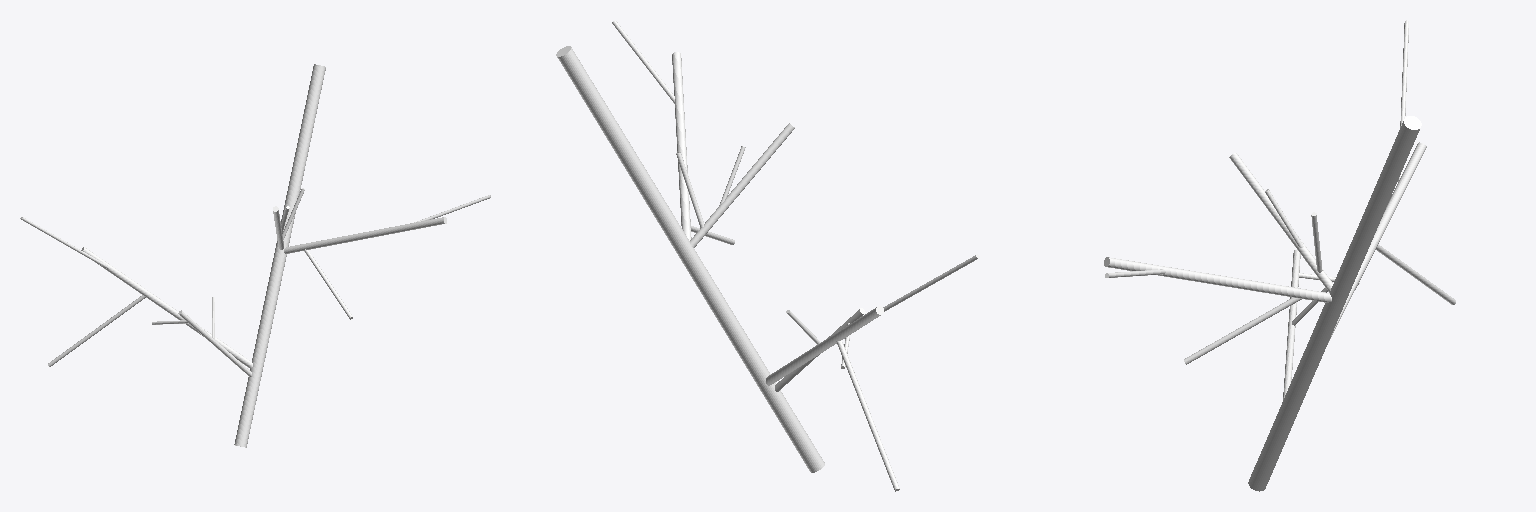
robot.urdf — tree_79.urdf:
<?xml version='1.0' encoding='UTF-8'?>
<robot name="tree_79.urdf">
  <link name="branch_0">
    <inertial>
      <origin xyz="0.0 0.0 0.0" rpy="0.0 -0.0 0.0"/>
      <mass value="1.0"/>
      <inertia ixx="1.0" ixy="0.0" ixz="0.0" iyy="1.0" iyz="0.0" izz="1.0"/>
    </inertial>
    <visual name="branch_0_visual">
      <geometry>
        <cylinder radius="0.15428073349545535" length="9.529718981716883"/>
      </geometry>
      <material name="branch_material"/>
      <origin xyz="1.8713882000473983 1.2914040198077825 4.1873700373828235" rpy="-1.3706536996187292e-16 0.4974496341435632 0.6040358883168764"/>
    </visual>
    <collision name="branch_0_collision">
      <geometry>
        <cylinder radius="0.15428073349545535" length="9.529718981716883"/>
      </geometry>
      <origin xyz="1.8713882000473983 1.2914040198077825 4.1873700373828235" rpy="-1.3706536996187292e-16 0.4974496341435632 0.6040358883168764"/>
    </collision>
  </link>
  <link name="branch_1">
    <inertial>
      <origin xyz="0.0 0.0 0.0" rpy="0.0 -0.0 0.0"/>
      <mass value="1.0"/>
      <inertia ixx="1.0" ixy="0.0" ixz="0.0" iyy="1.0" iyz="0.0" izz="1.0"/>
    </inertial>
    <visual name="branch_1_visual">
      <geometry>
        <cylinder radius="0.0722822862945025" length="2.9482041365778917"/>
      </geometry>
      <material name="branch_material"/>
      <origin xyz="0.0 0.0 0.0" rpy="0.0 -0.0 0.0"/>
    </visual>
    <collision name="branch_1_collision">
      <geometry>
        <cylinder radius="0.0722822862945025" length="2.9482041365778917"/>
      </geometry>
      <origin xyz="0.0 0.0 0.0" rpy="0.0 -0.0 0.0"/>
    </collision>
  </link>
  <link name="branch_2">
    <inertial>
      <origin xyz="0.0 0.0 0.0" rpy="0.0 -0.0 0.0"/>
      <mass value="1.0"/>
      <inertia ixx="1.0" ixy="0.0" ixz="0.0" iyy="1.0" iyz="0.0" izz="1.0"/>
    </inertial>
    <visual name="branch_2_visual">
      <geometry>
        <cylinder radius="0.045364912271308705" length="1.474331720846163"/>
      </geometry>
      <material name="branch_material"/>
      <origin xyz="0.0 0.0 0.0" rpy="0.0 -0.0 0.0"/>
    </visual>
    <collision name="branch_2_collision">
      <geometry>
        <cylinder radius="0.045364912271308705" length="1.474331720846163"/>
      </geometry>
      <origin xyz="0.0 0.0 0.0" rpy="0.0 -0.0 0.0"/>
    </collision>
  </link>
  <link name="branch_3">
    <inertial>
      <origin xyz="0.0 0.0 0.0" rpy="0.0 -0.0 0.0"/>
      <mass value="1.0"/>
      <inertia ixx="1.0" ixy="0.0" ixz="0.0" iyy="1.0" iyz="0.0" izz="1.0"/>
    </inertial>
    <visual name="branch_3_visual">
      <geometry>
        <cylinder radius="0.04" length="1.2584969913887478"/>
      </geometry>
      <material name="branch_material"/>
      <origin xyz="0.0 0.0 0.0" rpy="0.0 -0.0 0.0"/>
    </visual>
    <collision name="branch_3_collision">
      <geometry>
        <cylinder radius="0.04" length="1.2584969913887478"/>
      </geometry>
      <origin xyz="0.0 0.0 0.0" rpy="0.0 -0.0 0.0"/>
    </collision>
  </link>
  <link name="branch_4">
    <inertial>
      <origin xyz="0.0 0.0 0.0" rpy="0.0 -0.0 0.0"/>
      <mass value="1.0"/>
      <inertia ixx="1.0" ixy="0.0" ixz="0.0" iyy="1.0" iyz="0.0" izz="1.0"/>
    </inertial>
    <visual name="branch_4_visual">
      <geometry>
        <cylinder radius="0.06171909879394525" length="2.9400993097604933"/>
      </geometry>
      <material name="branch_material"/>
      <origin xyz="0.0 0.0 0.0" rpy="0.0 -0.0 0.0"/>
    </visual>
    <collision name="branch_4_collision">
      <geometry>
        <cylinder radius="0.06171909879394525" length="2.9400993097604933"/>
      </geometry>
      <origin xyz="0.0 0.0 0.0" rpy="0.0 -0.0 0.0"/>
    </collision>
  </link>
  <link name="branch_5">
    <inertial>
      <origin xyz="0.0 0.0 0.0" rpy="0.0 -0.0 0.0"/>
      <mass value="1.0"/>
      <inertia ixx="1.0" ixy="0.0" ixz="0.0" iyy="1.0" iyz="0.0" izz="1.0"/>
    </inertial>
    <visual name="branch_5_visual">
      <geometry>
        <cylinder radius="0.04" length="1.2029728240466377"/>
      </geometry>
      <material name="branch_material"/>
      <origin xyz="0.0 0.0 0.0" rpy="0.0 -0.0 0.0"/>
    </visual>
    <collision name="branch_5_collision">
      <geometry>
        <cylinder radius="0.04" length="1.2029728240466377"/>
      </geometry>
      <origin xyz="0.0 0.0 0.0" rpy="0.0 -0.0 0.0"/>
    </collision>
  </link>
  <link name="branch_6">
    <inertial>
      <origin xyz="0.0 0.0 0.0" rpy="0.0 -0.0 0.0"/>
      <mass value="1.0"/>
      <inertia ixx="1.0" ixy="0.0" ixz="0.0" iyy="1.0" iyz="0.0" izz="1.0"/>
    </inertial>
    <visual name="branch_6_visual">
      <geometry>
        <cylinder radius="0.04" length="1.117384253336302"/>
      </geometry>
      <material name="branch_material"/>
      <origin xyz="0.0 0.0 0.0" rpy="0.0 -0.0 0.0"/>
    </visual>
    <collision name="branch_6_collision">
      <geometry>
        <cylinder radius="0.04" length="1.117384253336302"/>
      </geometry>
      <origin xyz="0.0 0.0 0.0" rpy="0.0 -0.0 0.0"/>
    </collision>
  </link>
  <link name="branch_7">
    <inertial>
      <origin xyz="0.0 0.0 0.0" rpy="0.0 -0.0 0.0"/>
      <mass value="1.0"/>
      <inertia ixx="1.0" ixy="0.0" ixz="0.0" iyy="1.0" iyz="0.0" izz="1.0"/>
    </inertial>
    <visual name="branch_7_visual">
      <geometry>
        <cylinder radius="0.08418187635460321" length="4.884376594154465"/>
      </geometry>
      <material name="branch_material"/>
      <origin xyz="0.0 0.0 0.0" rpy="0.0 -0.0 0.0"/>
    </visual>
    <collision name="branch_7_collision">
      <geometry>
        <cylinder radius="0.08418187635460321" length="4.884376594154465"/>
      </geometry>
      <origin xyz="0.0 0.0 0.0" rpy="0.0 -0.0 0.0"/>
    </collision>
  </link>
  <link name="branch_8">
    <inertial>
      <origin xyz="0.0 0.0 0.0" rpy="0.0 -0.0 0.0"/>
      <mass value="1.0"/>
      <inertia ixx="1.0" ixy="0.0" ixz="0.0" iyy="1.0" iyz="0.0" izz="1.0"/>
    </inertial>
    <visual name="branch_8_visual">
      <geometry>
        <cylinder radius="0.04326247679108168" length="2.2954943857323054"/>
      </geometry>
      <material name="branch_material"/>
      <origin xyz="0.0 0.0 0.0" rpy="0.0 -0.0 0.0"/>
    </visual>
    <collision name="branch_8_collision">
      <geometry>
        <cylinder radius="0.04326247679108168" length="2.2954943857323054"/>
      </geometry>
      <origin xyz="0.0 0.0 0.0" rpy="0.0 -0.0 0.0"/>
    </collision>
  </link>
  <link name="branch_9">
    <inertial>
      <origin xyz="0.0 0.0 0.0" rpy="0.0 -0.0 0.0"/>
      <mass value="1.0"/>
      <inertia ixx="1.0" ixy="0.0" ixz="0.0" iyy="1.0" iyz="0.0" izz="1.0"/>
    </inertial>
    <visual name="branch_9_visual">
      <geometry>
        <cylinder radius="0.05091796355346586" length="2.30927143332439"/>
      </geometry>
      <material name="branch_material"/>
      <origin xyz="0.0 0.0 0.0" rpy="0.0 -0.0 0.0"/>
    </visual>
    <collision name="branch_9_collision">
      <geometry>
        <cylinder radius="0.05091796355346586" length="2.30927143332439"/>
      </geometry>
      <origin xyz="0.0 0.0 0.0" rpy="0.0 -0.0 0.0"/>
    </collision>
  </link>
  <link name="branch_10">
    <inertial>
      <origin xyz="0.0 0.0 0.0" rpy="0.0 -0.0 0.0"/>
      <mass value="1.0"/>
      <inertia ixx="1.0" ixy="0.0" ixz="0.0" iyy="1.0" iyz="0.0" izz="1.0"/>
    </inertial>
    <visual name="branch_10_visual">
      <geometry>
        <cylinder radius="0.08190634045299486" length="5.317087567705732"/>
      </geometry>
      <material name="branch_material"/>
      <origin xyz="0.0 0.0 0.0" rpy="0.0 -0.0 0.0"/>
    </visual>
    <collision name="branch_10_collision">
      <geometry>
        <cylinder radius="0.08190634045299486" length="5.317087567705732"/>
      </geometry>
      <origin xyz="0.0 0.0 0.0" rpy="0.0 -0.0 0.0"/>
    </collision>
  </link>
  <link name="branch_11">
    <inertial>
      <origin xyz="0.0 0.0 0.0" rpy="0.0 -0.0 0.0"/>
      <mass value="1.0"/>
      <inertia ixx="1.0" ixy="0.0" ixz="0.0" iyy="1.0" iyz="0.0" izz="1.0"/>
    </inertial>
    <visual name="branch_11_visual">
      <geometry>
        <cylinder radius="0.04" length="3.146343882490209"/>
      </geometry>
      <material name="branch_material"/>
      <origin xyz="0.0 0.0 0.0" rpy="0.0 -0.0 0.0"/>
    </visual>
    <collision name="branch_11_collision">
      <geometry>
        <cylinder radius="0.04" length="3.146343882490209"/>
      </geometry>
      <origin xyz="0.0 0.0 0.0" rpy="0.0 -0.0 0.0"/>
    </collision>
  </link>
  <link name="branch_12">
    <inertial>
      <origin xyz="0.0 0.0 0.0" rpy="0.0 -0.0 0.0"/>
      <mass value="1.0"/>
      <inertia ixx="1.0" ixy="0.0" ixz="0.0" iyy="1.0" iyz="0.0" izz="1.0"/>
    </inertial>
    <visual name="branch_12_visual">
      <geometry>
        <cylinder radius="0.051111784670347084" length="3.134690471809942"/>
      </geometry>
      <material name="branch_material"/>
      <origin xyz="0.0 0.0 0.0" rpy="0.0 -0.0 0.0"/>
    </visual>
    <collision name="branch_12_collision">
      <geometry>
        <cylinder radius="0.051111784670347084" length="3.134690471809942"/>
      </geometry>
      <origin xyz="0.0 0.0 0.0" rpy="0.0 -0.0 0.0"/>
    </collision>
  </link>
  <joint name="joint_0_1" type="fixed">
    <parent link="branch_0"/>
    <child link="branch_1"/>
    <axis xyz="1. 0. 0."/>
    <origin xyz="1.3500270307202822 0.46383881871531757 5.370138022319187" rpy="-0.18470615980066624 0.7807802527577484 -2.4235326178852126"/>
  </joint>
  <joint name="joint_0_4" type="fixed">
    <parent link="branch_0"/>
    <child link="branch_4"/>
    <axis xyz="1. 0. 0."/>
    <origin xyz="-0.32267244747235513 0.5641340722737607 2.5806716436815966" rpy="0.30273579401289924 0.6944358112686618 -2.788567721194258"/>
  </joint>
  <joint name="joint_0_7" type="fixed">
    <parent link="branch_0"/>
    <child link="branch_7"/>
    <axis xyz="1. 0. 0."/>
    <origin xyz="3.132377861015065 -0.5898544952358593 5.193604711318643" rpy="-0.8956168930137688 0.9316157288849283 -2.00281594703202"/>
  </joint>
  <joint name="joint_0_10" type="fixed">
    <parent link="branch_0"/>
    <child link="branch_10"/>
    <axis xyz="1. 0. 0."/>
    <origin xyz="-1.05917912100331 1.6354857985460323 3.2886973269107806" rpy="0.5618595949111826 0.7865892461054712 -2.9632149810667303"/>
  </joint>
  <joint name="joint_1_2" type="fixed">
    <parent link="branch_0"/>
    <child link="branch_2"/>
    <axis xyz="1. 0. 0."/>
    <origin xyz="2.034171314634218 0.9916458672290623 5.363627364083795" rpy="0.3261861359521366 0.2642430871601416 0.7427794150810717"/>
  </joint>
  <joint name="joint_1_3" type="fixed">
    <parent link="branch_0"/>
    <child link="branch_3"/>
    <axis xyz="1. 0. 0."/>
    <origin xyz="1.502789092354445 0.4760758007850929 5.517476553192614" rpy="0.44640784095476 -0.3269657469689995 0.37270337950990523"/>
  </joint>
  <joint name="joint_4_5" type="fixed">
    <parent link="branch_0"/>
    <child link="branch_5"/>
    <axis xyz="1. 0. 0."/>
    <origin xyz="-1.2703898002105605 1.161616096205418 3.176899583112874" rpy="-2.0568426595003735 0.8751780617809098 0.030823537800815908"/>
  </joint>
  <joint name="joint_4_6" type="fixed">
    <parent link="branch_0"/>
    <child link="branch_6"/>
    <axis xyz="1. 0. 0."/>
    <origin xyz="-0.25818724989731084 0.8798422554135761 3.1405830618773884" rpy="-0.499973508331657 0.49286699942699524 0.17285609973790744"/>
  </joint>
  <joint name="joint_7_8" type="fixed">
    <parent link="branch_0"/>
    <child link="branch_8"/>
    <axis xyz="1. 0. 0."/>
    <origin xyz="4.680764716556576 -2.0093230526648878 6.046510555354153" rpy="1.2033079123065624 0.12466883842700155 1.050173735514165"/>
  </joint>
  <joint name="joint_7_9" type="fixed">
    <parent link="branch_0"/>
    <child link="branch_9"/>
    <axis xyz="1. 0. 0."/>
    <origin xyz="2.350280941084019 -0.2079494114133993 3.9588543010709394" rpy="-2.4327937308439287 0.8495357855643489 2.5179953056496784"/>
  </joint>
  <joint name="joint_10_11" type="fixed">
    <parent link="branch_0"/>
    <child link="branch_11"/>
    <axis xyz="1. 0. 0."/>
    <origin xyz="-3.506724691473315 2.4298472930276866 5.307777653300716" rpy="0.9076626977334888 0.08343937950100794 -1.681870987106414"/>
  </joint>
  <joint name="joint_10_12" type="fixed">
    <parent link="branch_0"/>
    <child link="branch_12"/>
    <axis xyz="1. 0. 0."/>
    <origin xyz="-2.5285070699293124 2.590305206421016 2.6950388166778576" rpy="-3.1015079063644375 0.8771089355309125 -0.5367474789843125"/>
  </joint>
  <material name="branch_material">
    <color rgba="1. 1. 1. 1."/>
  </material>
</robot>

--- Render facts (derived) ---
3 views of the same robot in one strip: view 1: azimuth 30°, elevation 25°; view 2: azimuth 150°, elevation 25°; view 3: azimuth 270°, elevation 25° (orthographic).
Model tree_79.urdf with 13 links and 12 joints (12 fixed), rooted at branch_0, posed every joint at zero.
Links seen in each view (by area): view 1: branch_0, branch_7, branch_10; view 2: branch_0, branch_7, branch_10, branch_1, branch_12; view 3: branch_0, branch_7, branch_10, branch_1, branch_4, branch_9, branch_12.
Link boxes in pixels (<box>): branch_0: <box>234,64,325,447</box>; branch_7: <box>284,217,446,253</box>; branch_10: <box>81,247,252,368</box>; branch_0: <box>556,46,824,472</box>; branch_7: <box>672,52,691,240</box>; branch_10: <box>766,306,883,385</box>; branch_1: <box>690,123,794,247</box>; branch_12: <box>836,340,899,491</box>; branch_0: <box>1248,116,1421,491</box>; branch_7: <box>1104,257,1331,302</box>; branch_10: <box>1328,142,1426,342</box>; branch_1: <box>1229,152,1332,292</box>; branch_4: <box>1283,250,1300,399</box>; branch_9: <box>1184,298,1301,364</box>; branch_12: <box>1376,244,1455,304</box>.
Bounding box of the posed robot: 10.43 × 5.86 × 8.52 m (x, y, z).
Geometry: primitives only (box / cylinder / sphere), no mesh files.